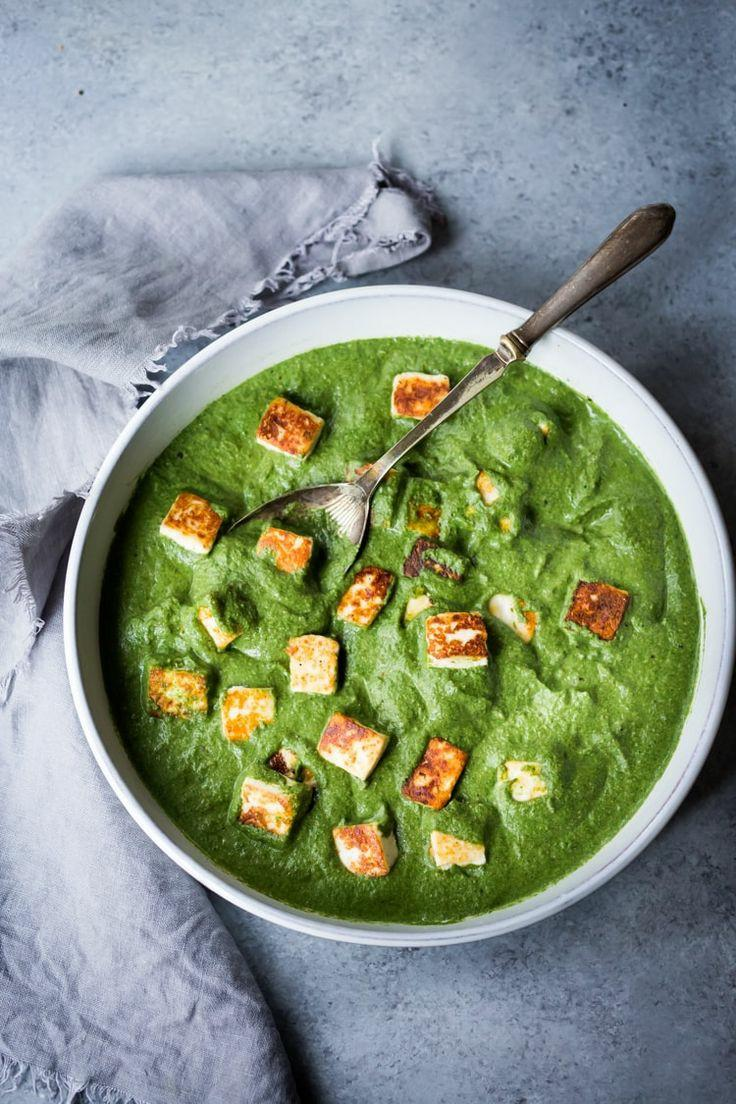PalakPaneer: (101, 337, 703, 928)
